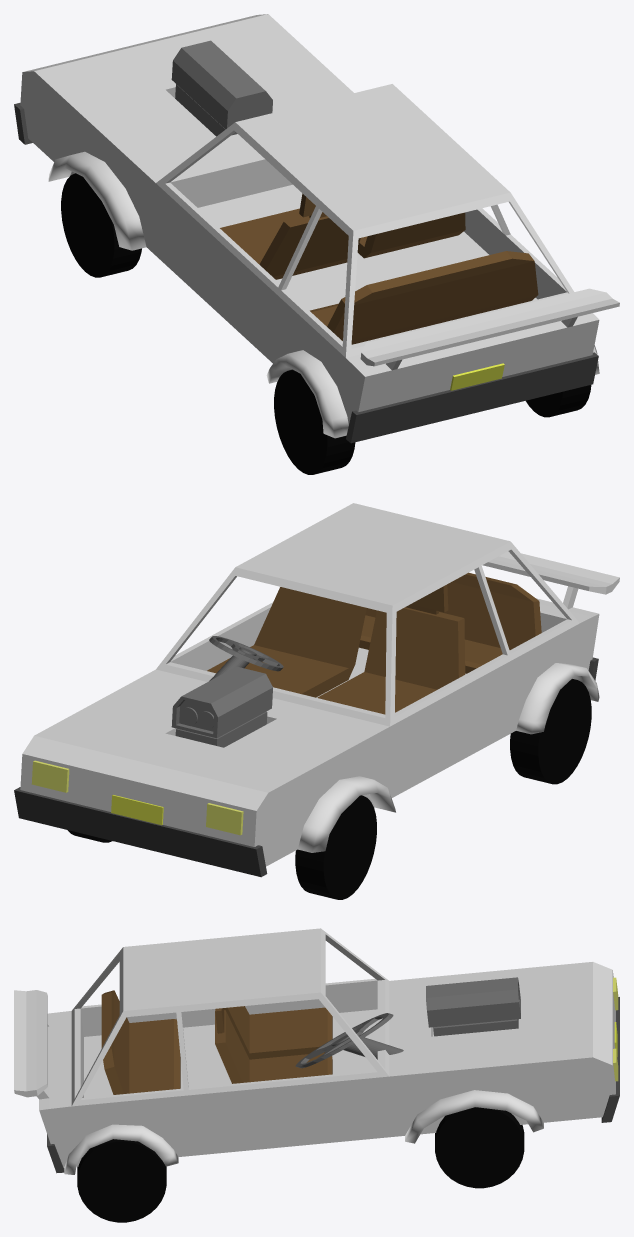
The model's file is car.fbx.
3 views of the same model, one above another, from view 1: azimuth 30°, elevation 25°; view 2: azimuth 150°, elevation 25°; view 3: azimuth 270°, elevation 25° (orthographic). The views are drawn at different scales.
Parts seen in each view (by area): view 1: Sport, Cube.001, Cylinder, Bumper, Cube.002, plates; view 2: Sport, Cube.001, Cylinder, Bumper, Cube.002, lights, Circle.004, plates; view 3: Sport, Cube.001, Cylinder, Cube.002, Circle.004, Bumper.
Part boxes in pixels (x1,y1,x2,y2): Sport: (20, 14, 619, 438); Cube.001: (220, 193, 538, 344); Cylinder: (61, 173, 591, 474); Bumper: (14, 102, 598, 443); Cube.002: (171, 40, 272, 136); plates: (450, 363, 504, 390); Sport: (20, 503, 619, 866); Cube.001: (207, 572, 541, 714); Cylinder: (67, 678, 591, 899); Bumper: (14, 657, 598, 877); Cube.002: (171, 666, 272, 747); lights: (31, 760, 243, 835); Circle.004: (209, 636, 283, 680); plates: (111, 795, 163, 825); Sport: (14, 928, 615, 1174); Cube.001: (101, 990, 332, 1094); Cylinder: (77, 1107, 524, 1222); Cube.002: (426, 977, 520, 1036); Circle.004: (295, 1013, 403, 1068); Bumper: (47, 997, 619, 1173).
Bounding box in the file's own units: 91.64 × 78.69 × 208.
